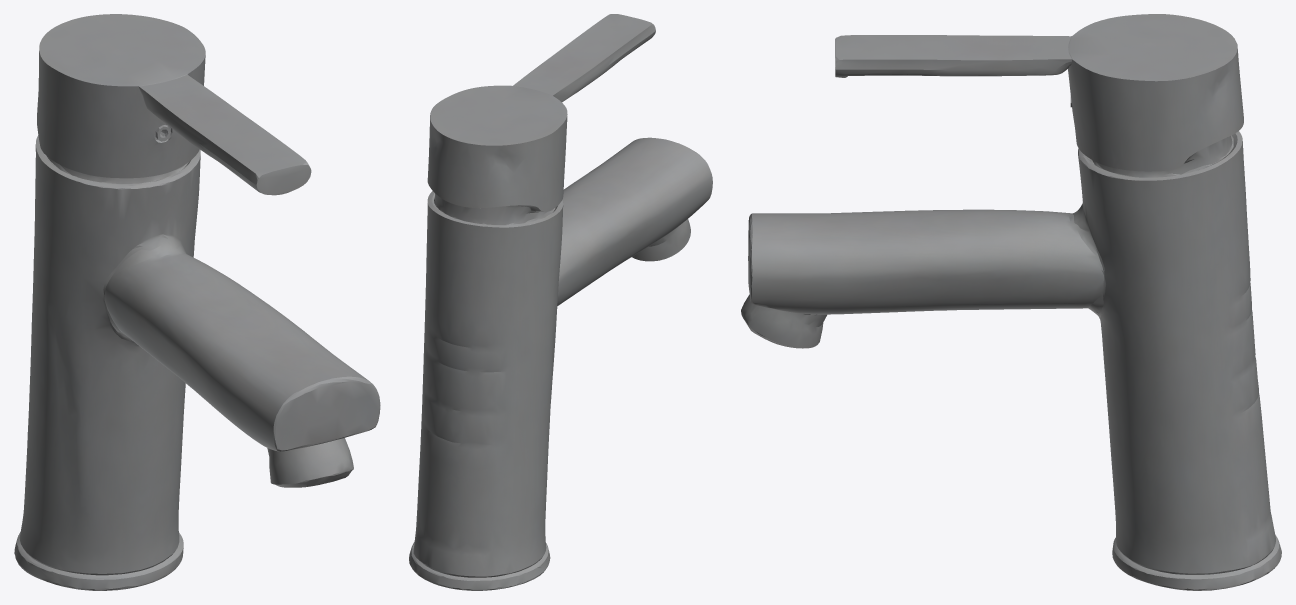
File: faucet.glb
3 renders of one model, left to right at view 1: azimuth 30°, elevation 25°; view 2: azimuth 150°, elevation 25°; view 3: azimuth 270°, elevation 25°, orthographic. The views are drawn at different scales.
Visible parts, largest first — view 1: model; view 2: model; view 3: model.
Part boxes in pixels (<box>): model: <box>14,14,380,590</box>; model: <box>409,14,712,590</box>; model: <box>741,14,1281,590</box>.
Bounding box in the file's own units: 0.5574 × 1.89 × 1.81.
1 material, 1 textured.
